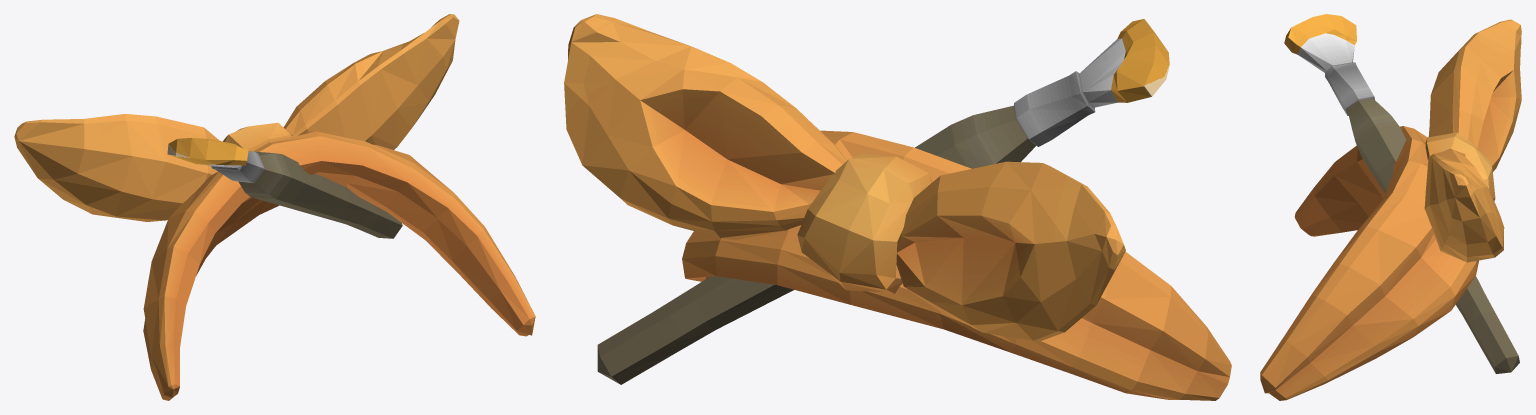
File: CharSkyKid_Hat_PersonalityPaintbrush.glb
The picture shows the model from 3 angles, left to right: view 1: azimuth 30°, elevation 25°; view 2: azimuth 150°, elevation 25°; view 3: azimuth 270°, elevation 25°; orthographic projection. The views are drawn at different scales.
Visible parts, largest first — view 1: CharSkyKid_Hat_PersonalityPaintbrush; view 2: CharSkyKid_Hat_PersonalityPaintbrush; view 3: CharSkyKid_Hat_PersonalityPaintbrush.
Boxes of the visible parts, x1=… form: CharSkyKid_Hat_PersonalityPaintbrush: x1=14, y1=14, x2=535, y2=400; CharSkyKid_Hat_PersonalityPaintbrush: x1=564, y1=14, x2=1231, y2=400; CharSkyKid_Hat_PersonalityPaintbrush: x1=1260, y1=14, x2=1521, y2=400.
Bounding box in the file's own units: 3.16 × 1.87 × 1.81.
Materials: 1 (1 with a texture image).
